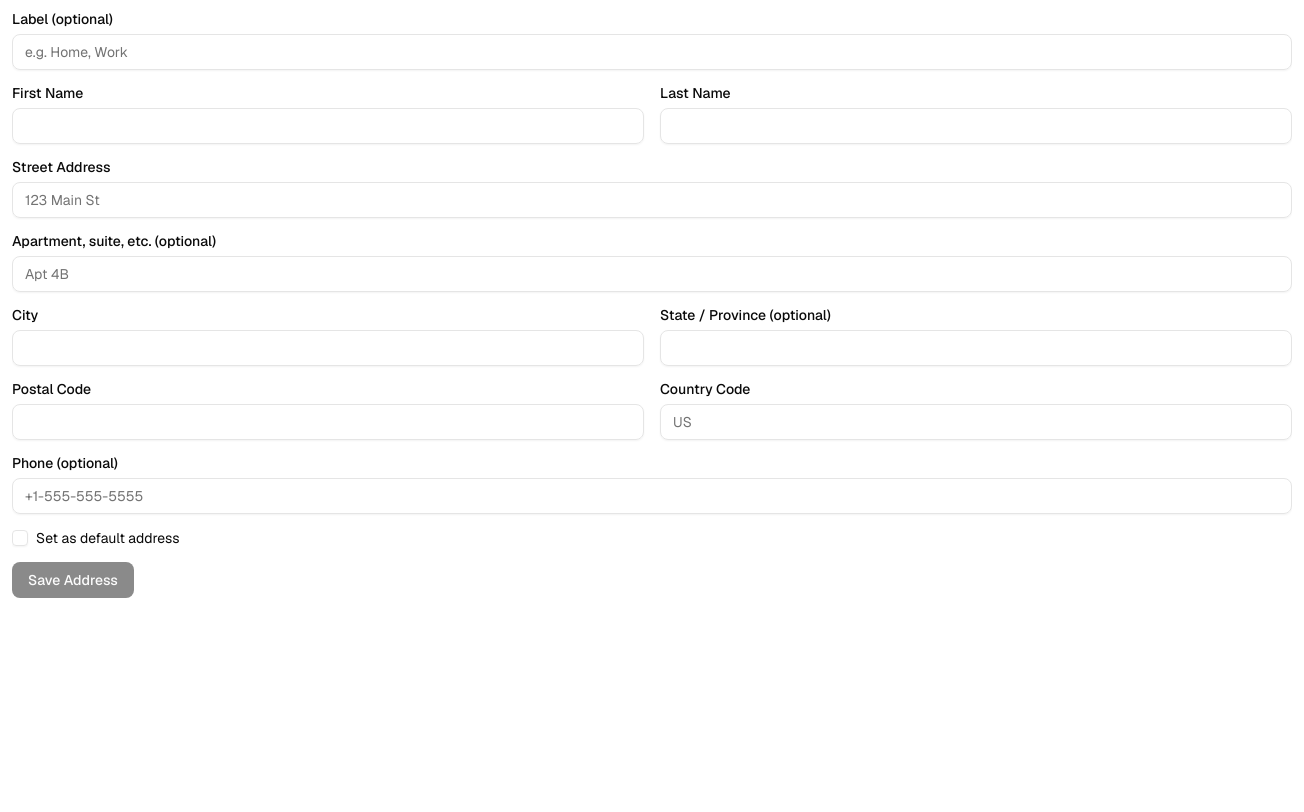
AddressForm › validation › should show error for lastName on blur when empty
Click the field labelled "Last Name". click: (976, 126)
box: [660,108,1292,144]
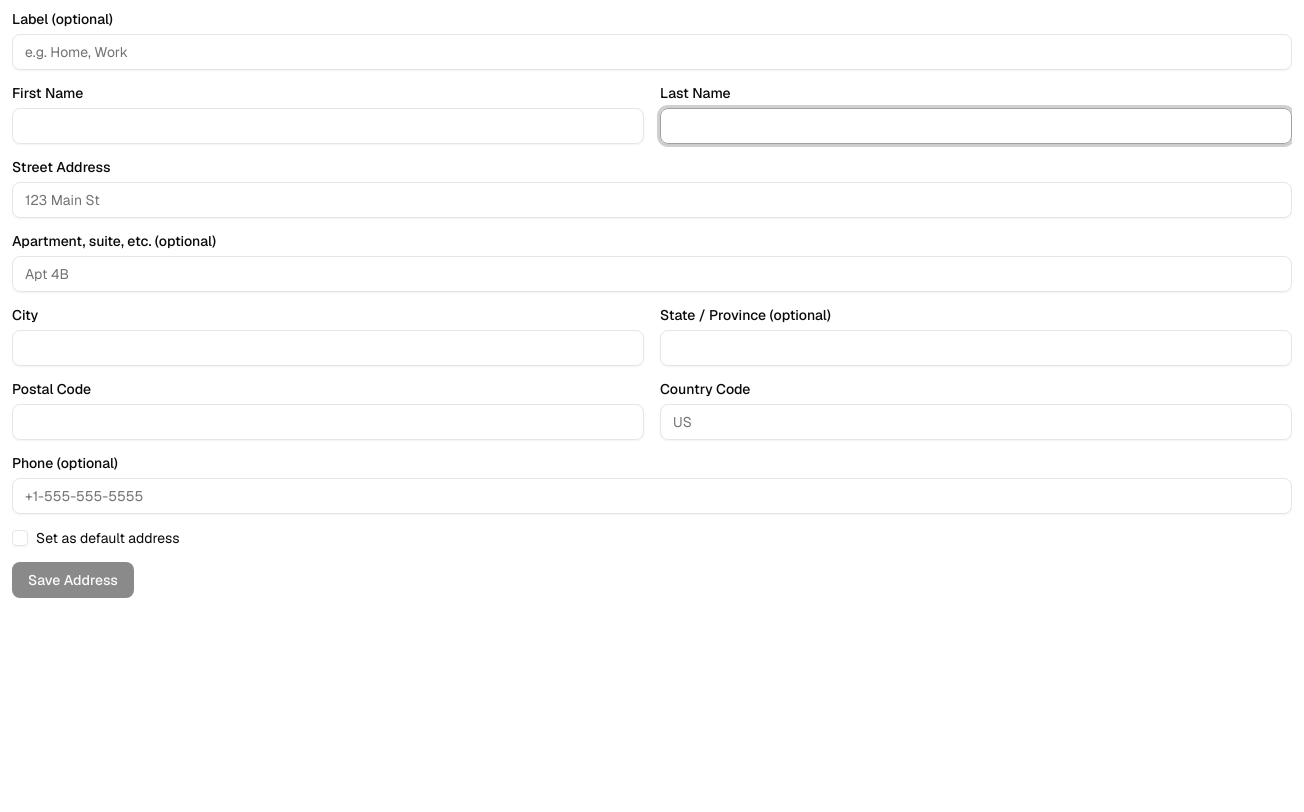
Press Tab
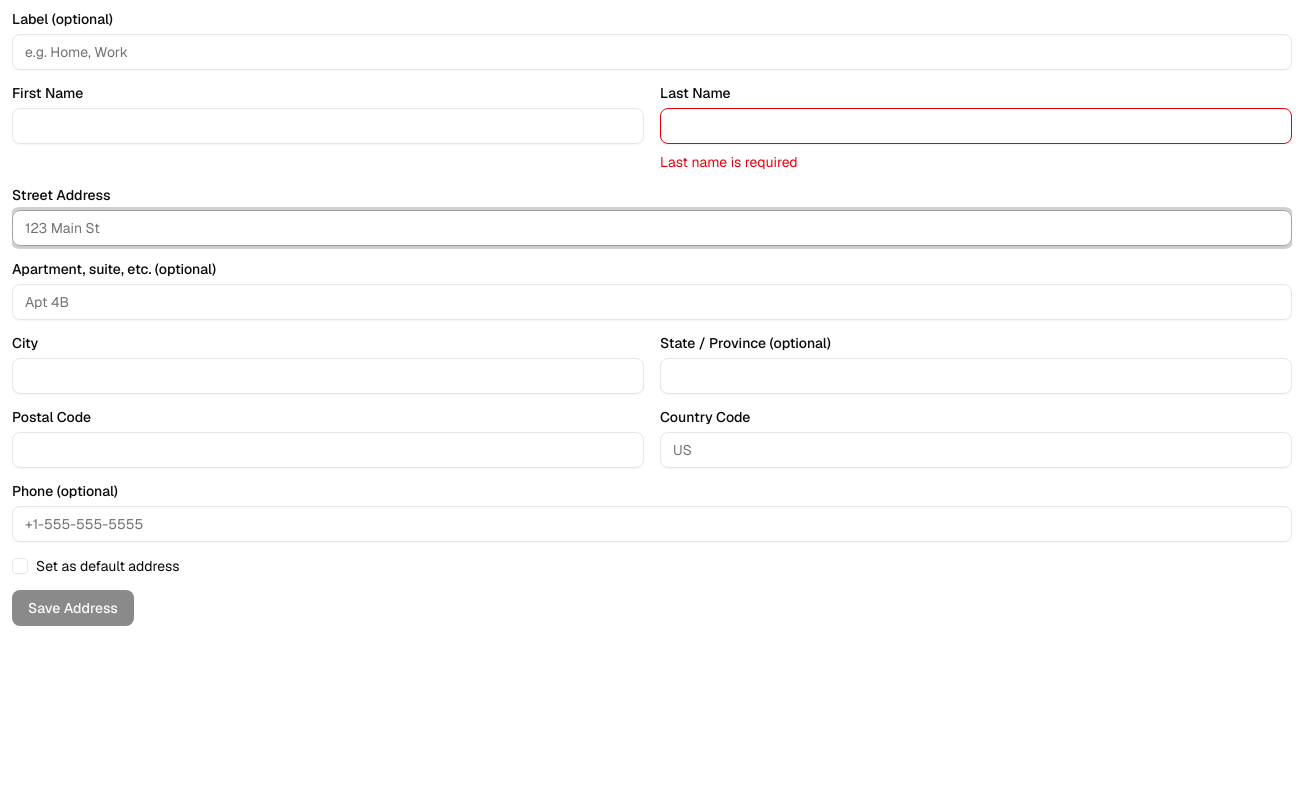
Check: the text "Last name is required" is shown, box [660,153,798,171]
